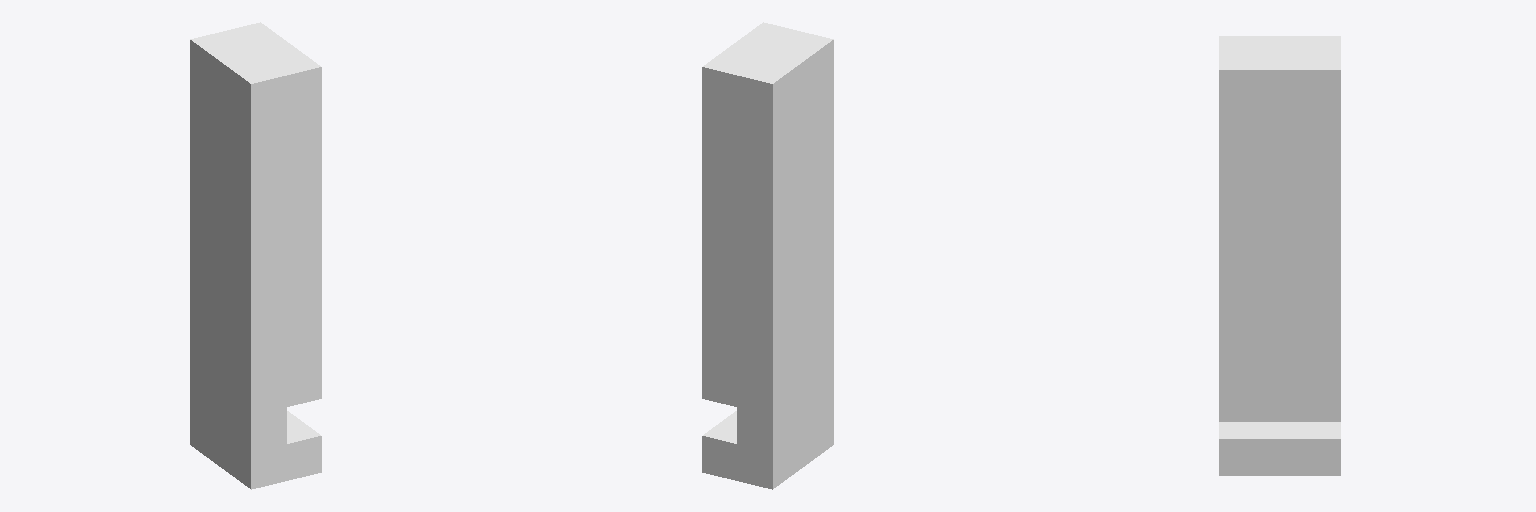
Rendered from leftarm.obj.
3 renders of one model, left to right at view 1: azimuth 30°, elevation 25°; view 2: azimuth 150°, elevation 25°; view 3: azimuth 270°, elevation 25°, orthographic.
Visible parts, largest first — view 1: Default; view 2: Default; view 3: Default.
Part boxes in pixels (x1,y1,x2,y2): Default: (190, 22, 321, 489); Default: (702, 22, 833, 489); Default: (1219, 36, 1340, 475).
Bounding box in the file's own units: 0.2 × 1.1 × 0.3.